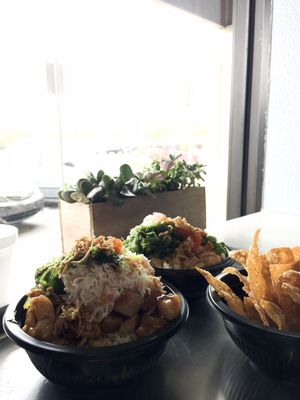sushi: (1, 235, 189, 392), (203, 208, 300, 384), (203, 280, 300, 385)
